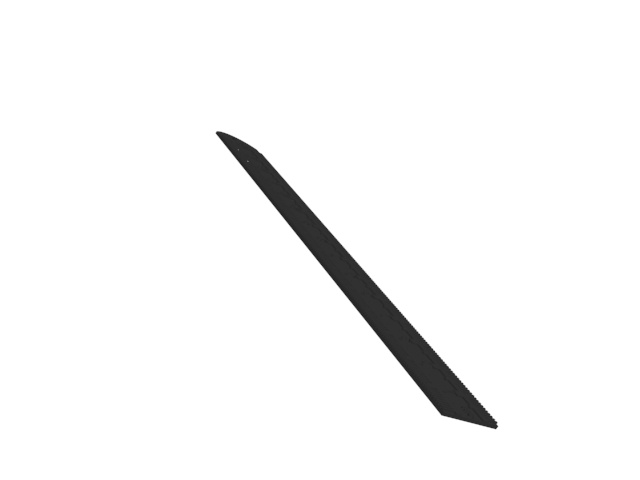ruler: (209, 129, 504, 432)
